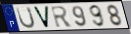8: (107, 4, 123, 27)
9: (88, 4, 106, 28), (72, 6, 88, 29)
R: (50, 5, 74, 29)
U: (15, 6, 36, 29)
V: (32, 6, 51, 29)
